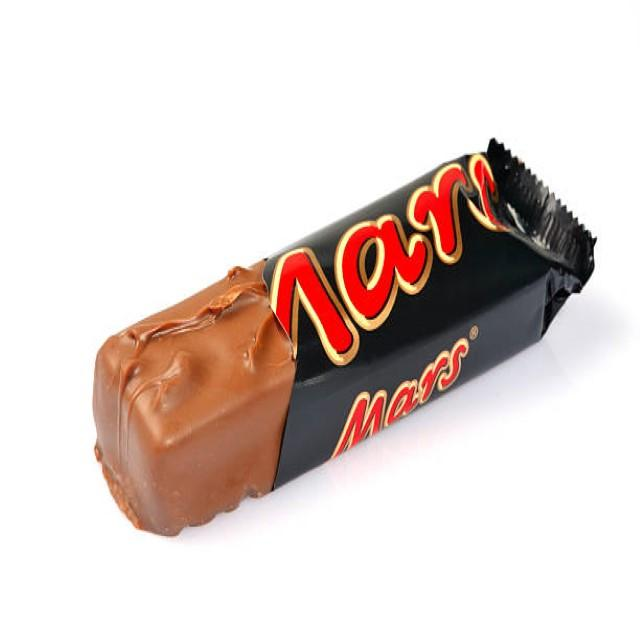mars_chocolate: (186, 148, 576, 478)
